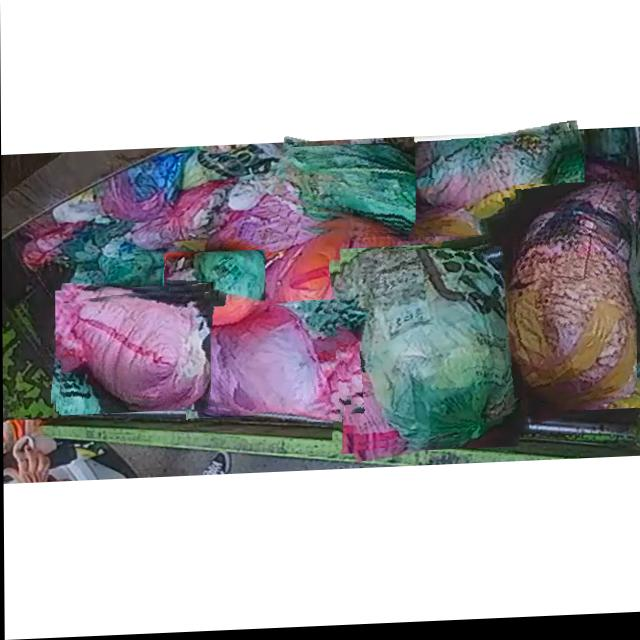general_trashbag: (338, 253, 523, 450), (415, 128, 571, 239), (284, 147, 449, 238), (165, 253, 264, 330)
other_trashbag: (505, 186, 636, 413), (187, 306, 341, 424), (60, 293, 210, 412)
